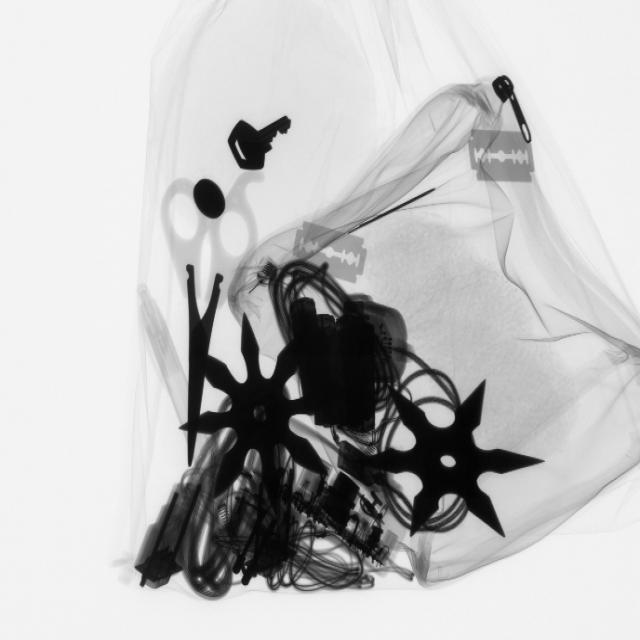BLADE: (289, 217, 373, 291), (465, 120, 544, 192)
SHURIKEN: (363, 371, 539, 540), (196, 308, 331, 514)
